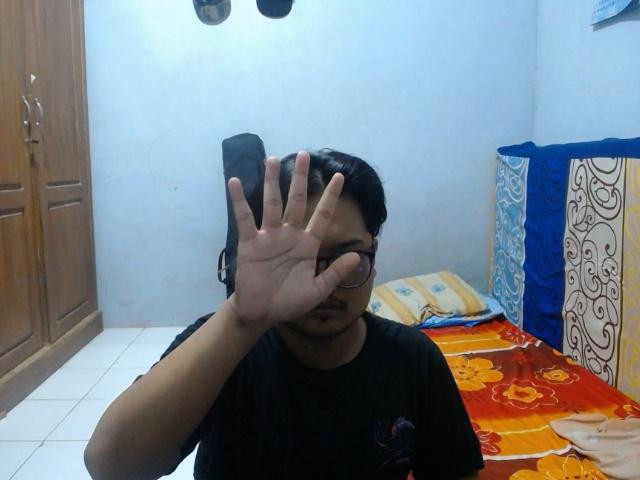Release: (223, 144, 359, 328)
